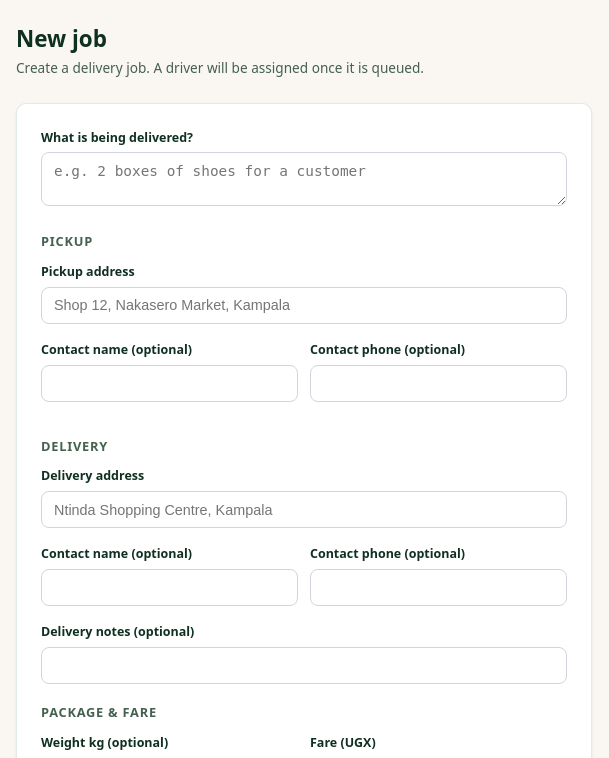
button disables while the request is in flight
The image size is (609, 758).
Type "2 boxes of shoes" into the text box labelled "What is being delivered?" at (304, 179), box [41, 152, 567, 206]
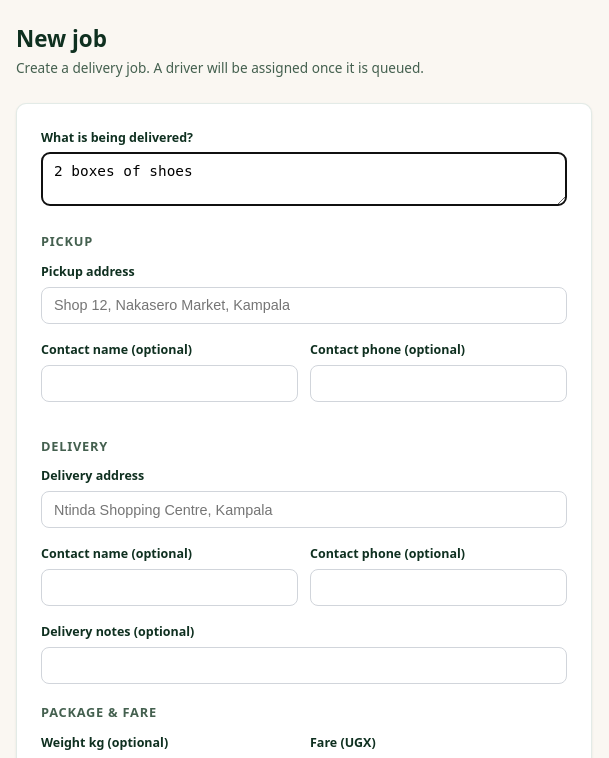
Type "Nakasero Market, Kampala" into the field labelled "Pickup address" at (304, 305), box [41, 287, 567, 324]
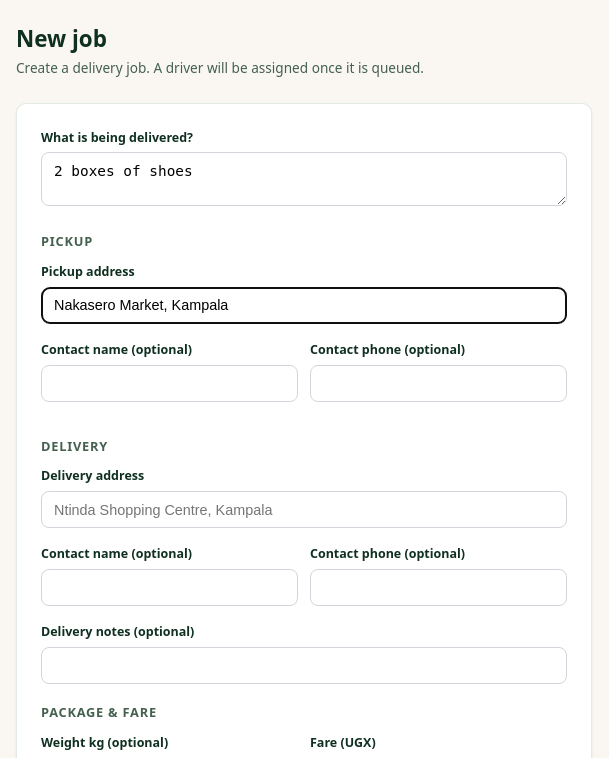
Type "Ntinda Shopping Centre" into the field labelled "Delivery address" at (304, 510), box [41, 491, 567, 528]
(page scrolled)
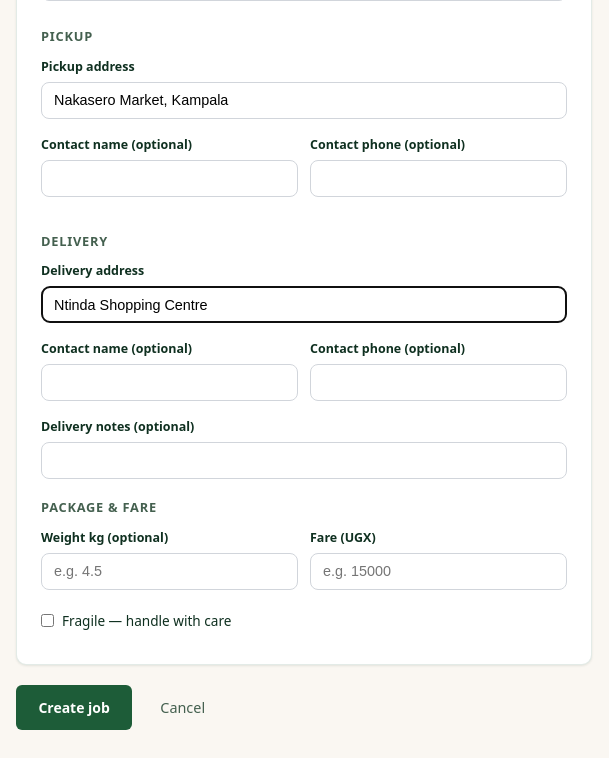
Type "15000" into the field labelled "Fare (UGX)" at (438, 571), box [310, 553, 567, 590]
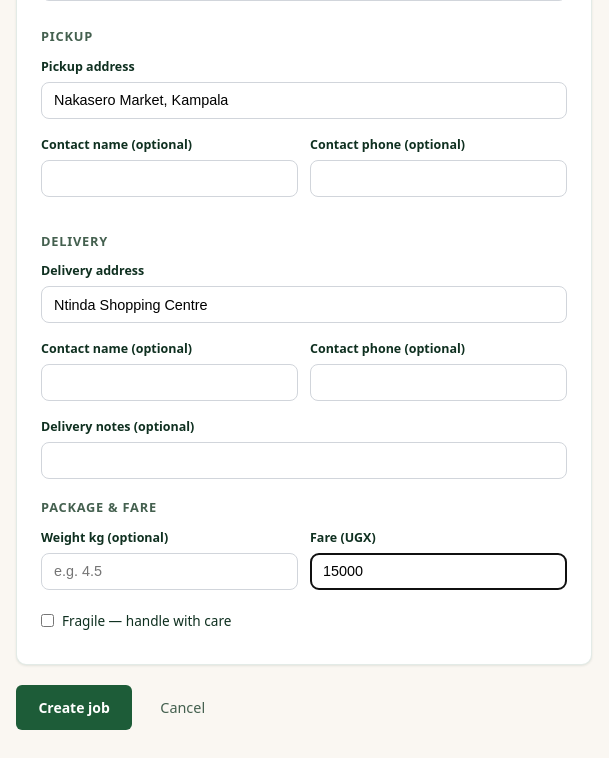
Click the button "Create job" at (74, 707), box [16, 684, 132, 730]
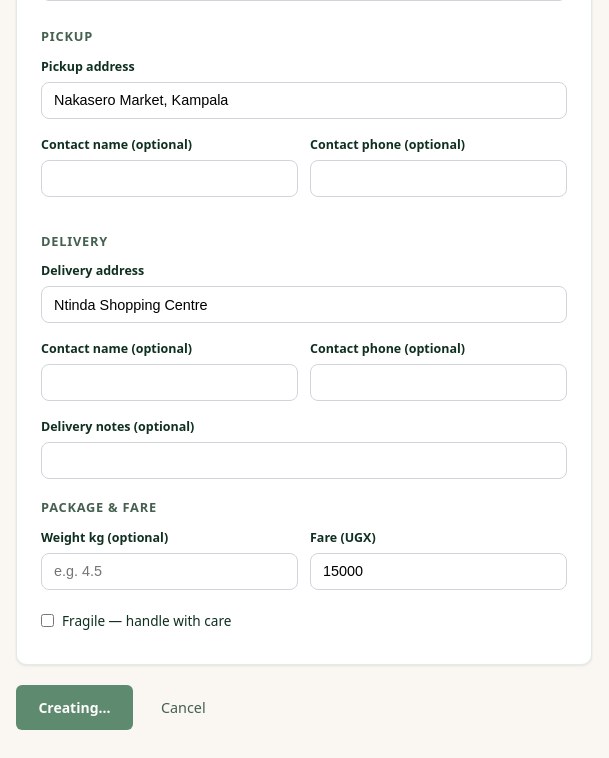
Result: the button "Creating…" is disabled at [16, 684, 133, 730]
